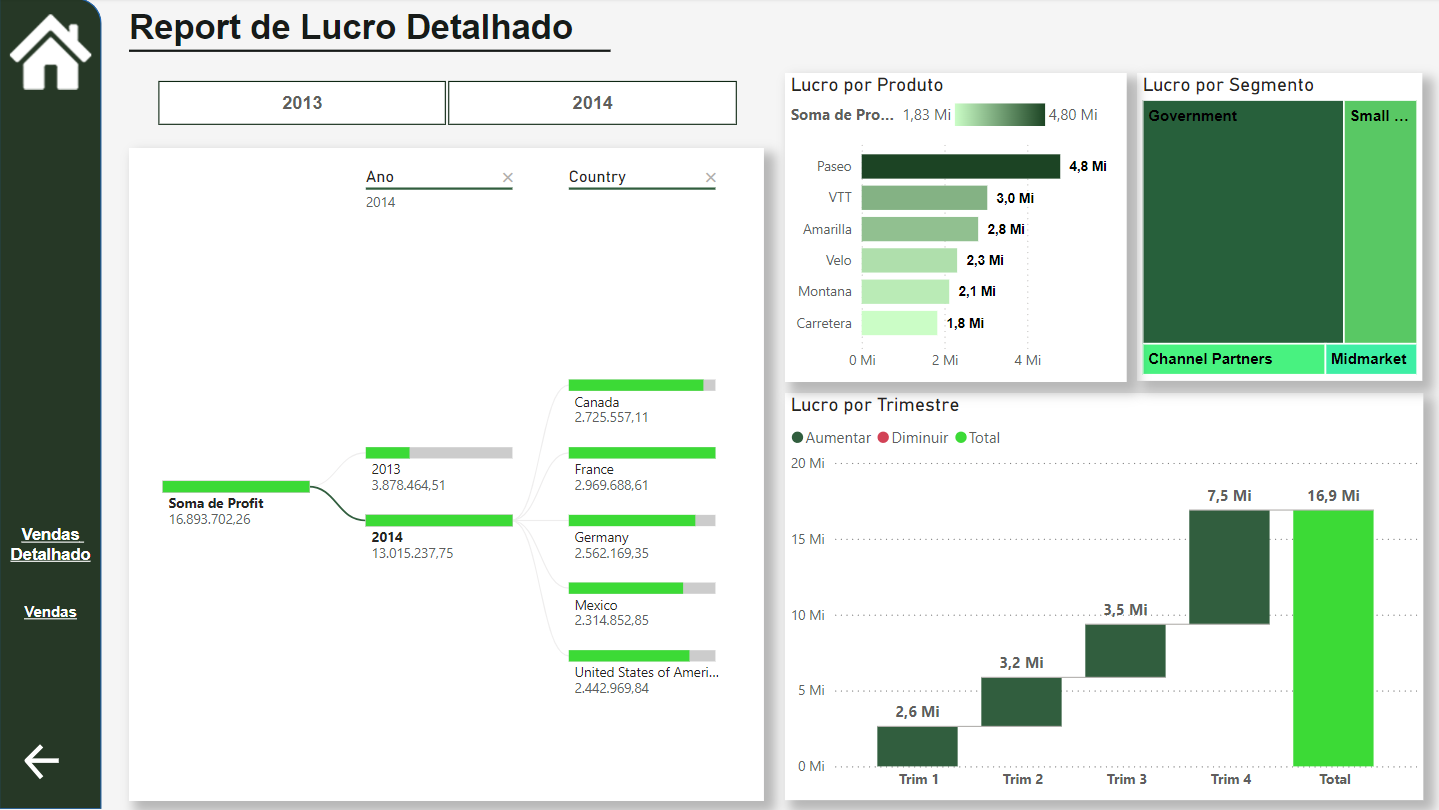

Layout of this report page (visuals, bound fields, positions):
{"tool":"powerbi","page":{"name":"Lucro","canvas":[1280,720],"ordinal":2},"visuals":[{"type":"image","title":"Imagem - Home","box":[0,0,91.4,95.3],"z":0,"group":"g1"},{"type":"decompositionTreeVisual","fields":{"Analyze":["Sum(financials.Profit)"],"ExplainBy":["financials.Date.Variation.Hierarquia de datas.Ano","financials.Country"]},"box":[114.9,132.6,562.9,578.6],"z":0},{"type":"textbox","title":"Menu Paginas","box":[0,461.7,91.4,110],"z":0,"group":"g2"},{"type":"actionButton","title":"B- Home - Pag3","box":[0,7.9,91.4,77.6],"z":1000,"group":"g1"},{"type":"waterfallChart","title":"Lucro por Trimestre","fields":{"Y":["Sum(financials.Profit)"],"Category":["financials.Date.Variation.Hierarquia de datas.Trimestre"]},"box":[696.5,350.3,566.3,361.4],"z":1000},{"type":"actionButton","title":"B- Página Vendas De","box":[8.8,461.7,73.7,40.3],"z":1000,"group":"g2"},{"type":"treemap","title":"Lucro por Segmento","fields":{"Group":["financials.Segment"],"Values":["Sum(financials.Profit)"]},"box":[1009.5,66.6,253.4,272.6],"z":2000},{"type":"actionButton","title":"B- Página Lucro","box":[8.8,528.5,73.7,28.5],"z":2000,"group":"g2"},{"type":"slicer","fields":{"Values":["financials.Date.Variation.Hierarquia de datas.Ano"]},"box":[114.9,66.8,562.9,53],"z":3000},{"type":"clusteredBarChart","title":"Lucro por Produto","fields":{"Category":["financials.Product"],"Y":["Sum(financials.Profit)"]},"box":[696.5,66.6,302.8,273.6],"z":4000},{"type":"shape","box":[0,0,90.9,719.4],"z":5000},{"type":"actionButton","box":[19,657,50,40.4],"z":6000},{"type":"shape","box":[114.9,7.9,427.3,77.6],"z":7000},{"type":"group","id":"g1","title":"Home Page","box":[0,0,91.4,95.3],"z":8000},{"type":"group","id":"g2","title":"Menu pagina","box":[0,461.7,91.4,110],"z":8001}]}

Visuals, with their boxes in screenshot pixels (x1, y1, x2, y2), scaled from the page's 1280x720 canvas onto the 1439x810 screenshot:
"Imagem - Home" image: BBox(0, 0, 103, 107)
decompositionTreeVisual - Sum(financials.Profit) x financials.Date.Variation.Hierarquia de datas.Ano: BBox(129, 149, 762, 800)
"Menu Paginas" textbox: BBox(0, 519, 103, 643)
"B- Home - Pag3" actionButton: BBox(0, 9, 103, 96)
"Lucro por Trimestre" waterfallChart: BBox(783, 394, 1420, 801)
"B- Página Vendas De" actionButton: BBox(10, 519, 93, 565)
"Lucro por Segmento" treemap: BBox(1135, 75, 1420, 382)
"B- Página Lucro" actionButton: BBox(10, 595, 93, 627)
slicer - financials.Date.Variation.Hierarquia de datas.Ano: BBox(129, 75, 762, 135)
"Lucro por Produto" clusteredBarChart: BBox(783, 75, 1123, 383)
shape: BBox(0, 0, 102, 809)
actionButton: BBox(21, 739, 78, 785)
shape: BBox(129, 9, 610, 96)
"Home Page" group: BBox(0, 0, 103, 107)
"Menu pagina" group: BBox(0, 519, 103, 643)
